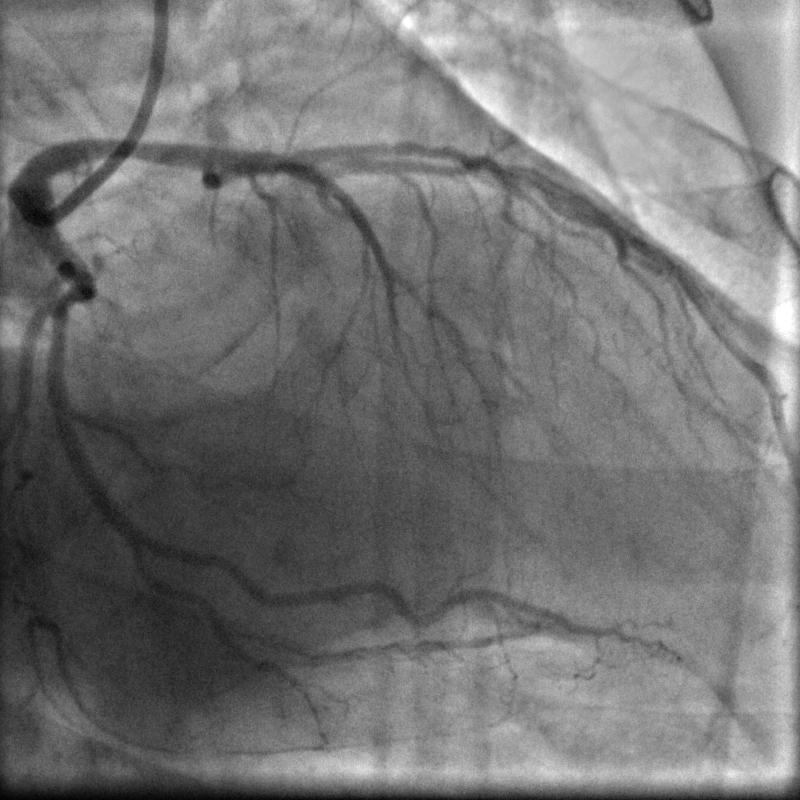Stenosis: (51, 267, 97, 336)
